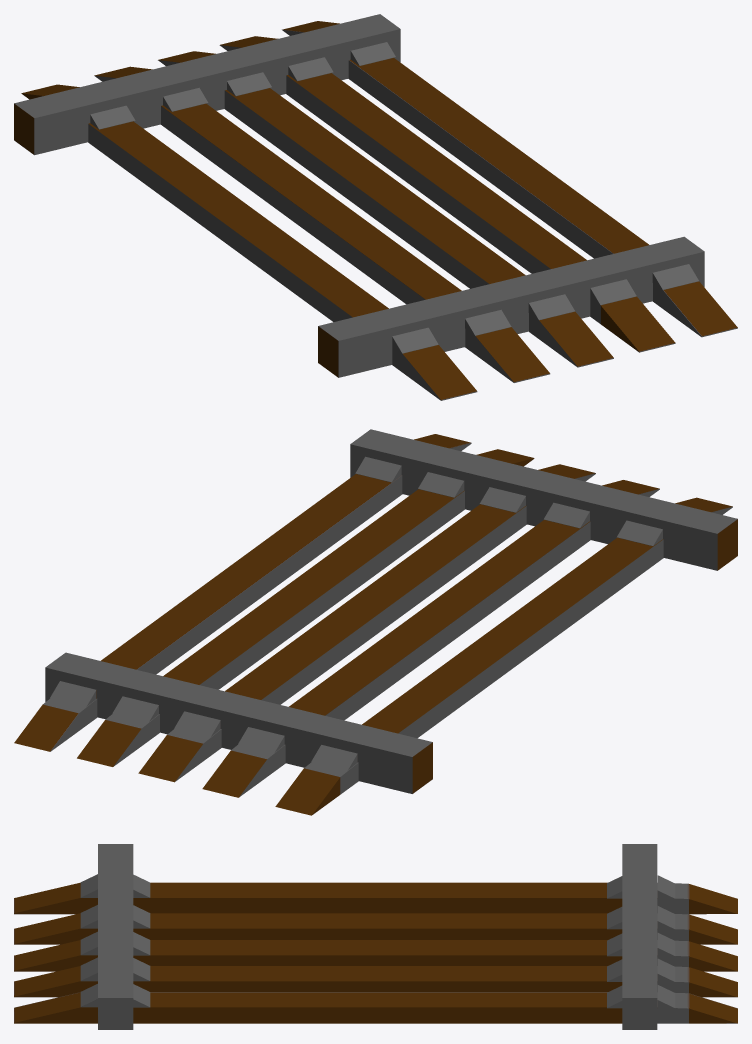
Rendered from railway.fbx.
3 views of the same model, one above another, from view 1: azimuth 30°, elevation 25°; view 2: azimuth 150°, elevation 25°; view 3: azimuth 270°, elevation 25° (orthographic). The views are drawn at different scales.
Parts seen in each view (by area): view 1: railway_LOD0; view 2: railway_LOD0; view 3: railway_LOD0.
Boxes of the visible parts, x1,y1,x2,y2 form: railway_LOD0: (14,14,737,400); railway_LOD0: (14,429,737,815); railway_LOD0: (14,844,737,1029).
Size of what is drawn, in the model's own units: 2.35 by 0.2292 by 4.67.
